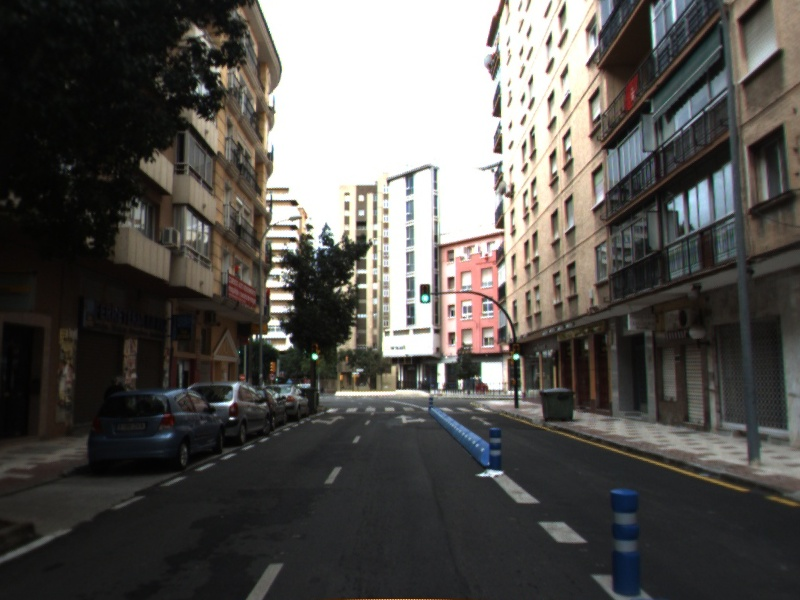STRAIGHT: (469, 414, 493, 427)
STRAIGHT_LEFT: (309, 414, 346, 426)
STRAIGHT_RIGHT: (393, 413, 428, 425)
